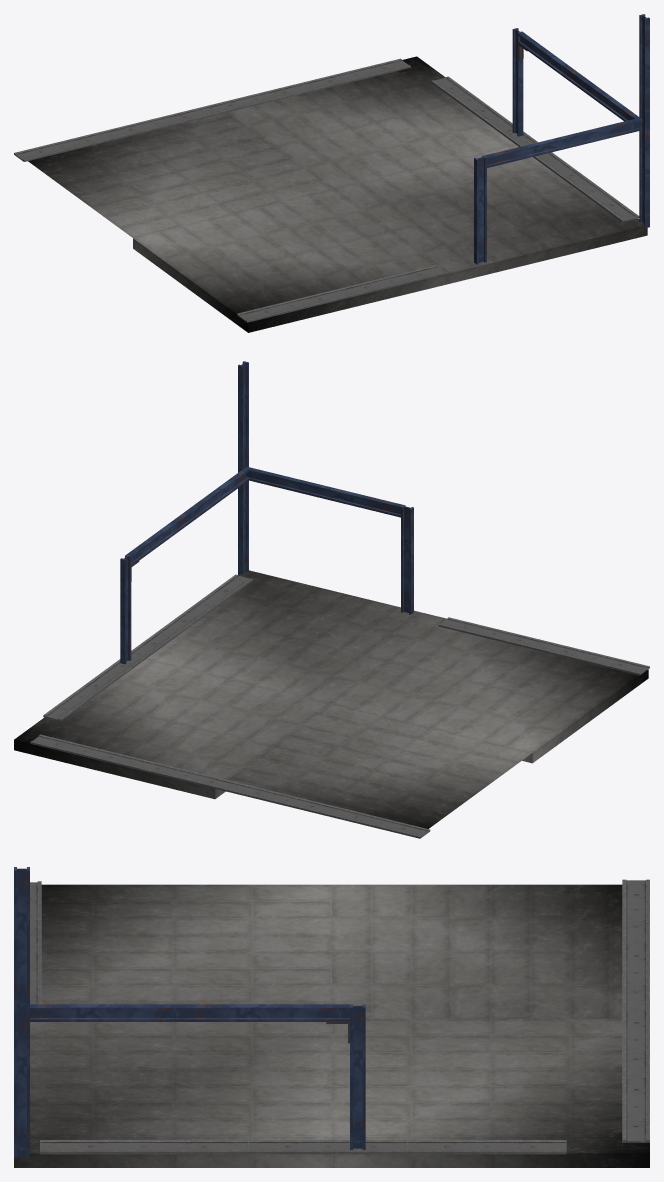
Rendered from BuildingMap_0_0.gltf.
3 views of the same model, one above another, from view 1: azimuth 30°, elevation 25°; view 2: azimuth 150°, elevation 25°; view 3: azimuth 270°, elevation 25° (orthographic). The views are drawn at different scales.
Parts seen in each view (by area): view 1: SM_Floors_Thick_122, SM_Floors_Thick_121, SM_Floors_Plain_7, SM_Floors_Thick_120, SM_Building_Pieces_2_SteelRudder123, SM_Building_Pieces_2_MetalBorder44, SM_Building_Pieces_2_SteelRudder20, SM_Building_Pieces_2_MetalBorder48, SM_Building_Pieces_2_MetalBorder59, SM_Building_Pieces_2_MetalBorder68, SM_Building_Pieces_2_MetalBorder47, SM_Building_Pieces_2_MetalBorder67 (+8 smaller); view 2: SM_Floors_Thick_122, SM_Floors_Thick_120, SM_Floors_Thick_121, SM_Floors_Plain_7, SM_Building_Pieces_2_SteelRudder123, SM_Building_Pieces_2_MetalBorder44, SM_Building_Pieces_2_SteelRudder20, SM_Building_Pieces_2_SteelRudder6, SM_Building_Pieces_2_MetalBorder48, SM_Building_Pieces_2_MetalBorder47, SM_Building_Pieces_2_MetalBorder59, SM_Building_Pieces_2_MetalBorder68 (+8 smaller); view 3: SM_Floors_Thick_121, SM_Floors_Thick_120, SM_Floors_Plain_7, SM_Floors_Thick_122, SM_Building_Pieces_2_MetalBorder44, SM_Building_Pieces_2_SteelRudder22, SM_Building_Pieces_2_SteelRudder21, SM_Building_Pieces_2_MetalBorder42, SM_Building_Pieces_2_SteelRudder127, SM_Building_Pieces_2_SteelRudder122, SM_Building_Pieces_2_SteelRudder6, SM_Building_Pieces_2_MetalBorder43 (+6 smaller).
Boxes of the visible parts, x1,y1,x2,y2 form: SM_Floors_Thick_122: (133,189,447,332); SM_Floors_Thick_121: (333,145,647,283); SM_Floors_Plain_7: (28,112,332,237); SM_Floors_Thick_120: (227,56,515,189); SM_Building_Pieces_2_SteelRudder123: (484,117,642,167); SM_Building_Pieces_2_MetalBorder44: (546,161,639,221); SM_Building_Pieces_2_SteelRudder20: (474,155,486,264); SM_Building_Pieces_2_MetalBorder48: (237,289,346,322); SM_Building_Pieces_2_MetalBorder59: (301,58,410,91); SM_Building_Pieces_2_MetalBorder68: (102,107,211,140); SM_Building_Pieces_2_MetalBorder47: (337,265,446,298); SM_Building_Pieces_2_MetalBorder67: (201,83,310,116); SM_Floors_Thick_122: (331,625,648,763); SM_Floors_Thick_120: (14,658,330,799); SM_Floors_Thick_121: (147,570,446,703); SM_Floors_Plain_7: (228,704,531,828); SM_Building_Pieces_2_SteelRudder123: (244,466,403,517); SM_Building_Pieces_2_MetalBorder44: (160,574,253,635); SM_Building_Pieces_2_SteelRudder20: (401,505,413,614); SM_Building_Pieces_2_SteelRudder6: (120,555,131,664); SM_Building_Pieces_2_MetalBorder48: (539,642,649,675); SM_Building_Pieces_2_MetalBorder47: (438,617,548,650); SM_Building_Pieces_2_MetalBorder59: (30,734,140,768); SM_Building_Pieces_2_MetalBorder68: (231,783,341,817); SM_Floors_Thick_121: (14,1022,331,1167); SM_Floors_Thick_120: (332,1019,649,1167); SM_Floors_Plain_7: (332,884,622,1018); SM_Floors_Thick_122: (41,884,331,1004); SM_Building_Pieces_2_MetalBorder44: (40,1140,248,1154); SM_Building_Pieces_2_SteelRudder22: (186,1004,349,1021); SM_Building_Pieces_2_SteelRudder21: (30,1004,186,1021); SM_Building_Pieces_2_MetalBorder42: (407,1140,566,1154); SM_Building_Pieces_2_SteelRudder127: (14,867,29,1014); SM_Building_Pieces_2_SteelRudder122: (14,1013,29,1158); SM_Building_Pieces_2_SteelRudder6: (350,1004,365,1149); SM_Building_Pieces_2_MetalBorder43: (248,1140,407,1154).
Bounding box in the file's own units: 16.25 × 8.3 × 16.
Materials: 5 (5 with a texture image).
